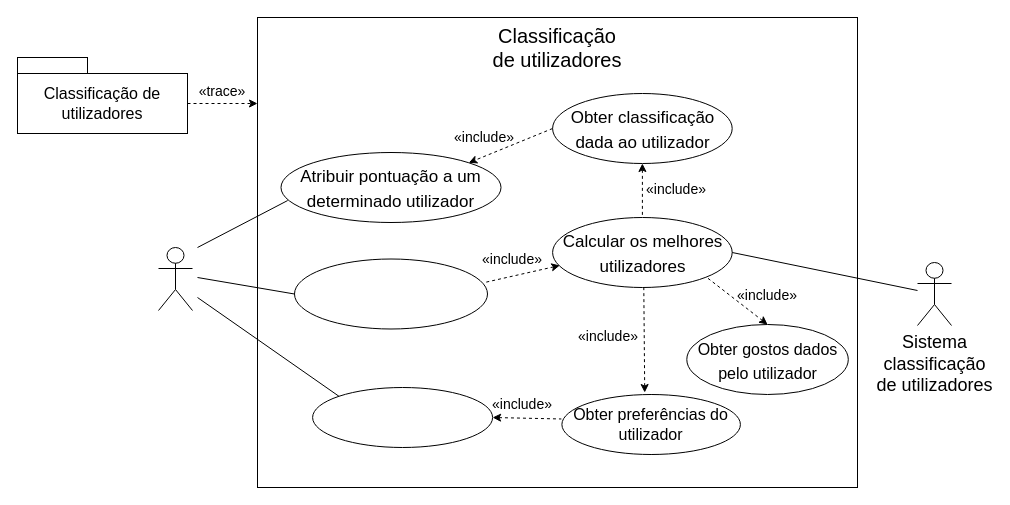
Image size: 1010x505. Some labels were removed from this diagram. Each missing label, with the centre of its shape:
Obter os melhores utilizadores: point 391,293
Responder ao questionário: point 402,417
Utilizador: point 175,278
